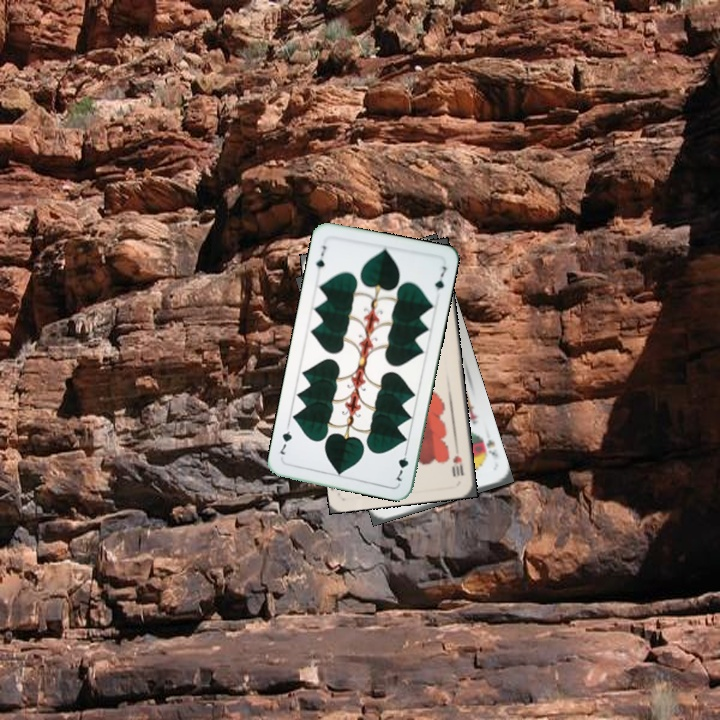G7: (391, 445, 411, 484), (311, 241, 329, 271)
H10: (449, 451, 466, 479)
SK: (475, 433, 500, 463)
